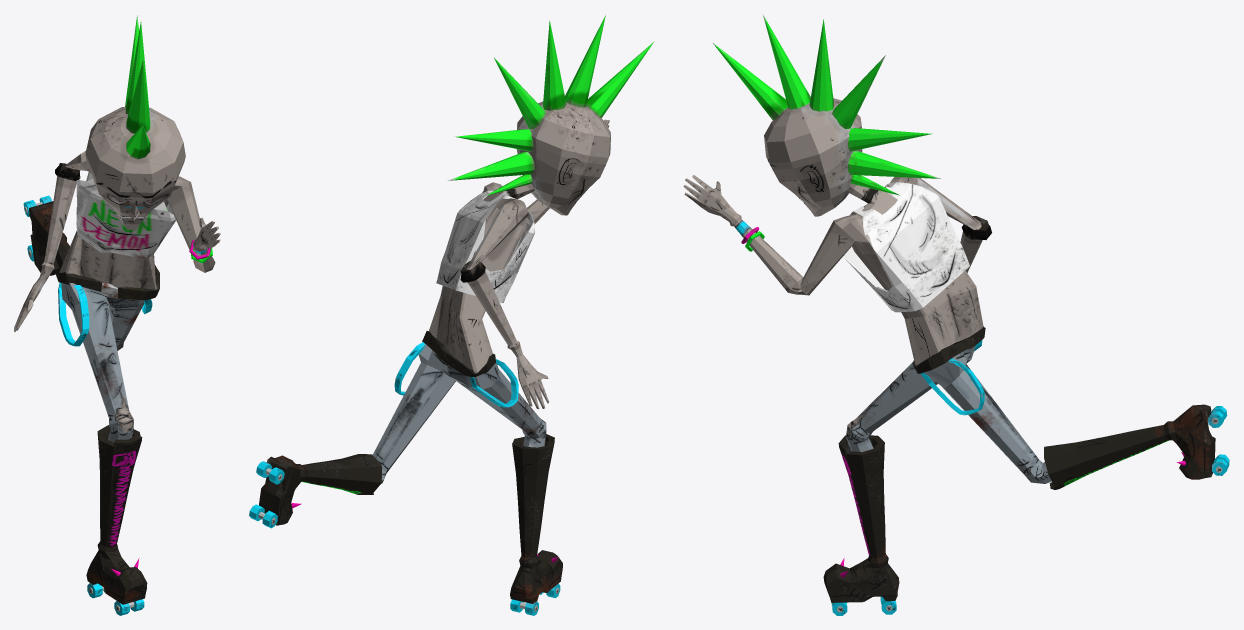
Rendered from punkAnimation_000032.obj.
The picture shows the model from 3 angles, left to right: view 1: azimuth 30°, elevation 25°; view 2: azimuth 150°, elevation 25°; view 3: azimuth 270°, elevation 25°; orthographic projection. The views are drawn at different scales.
Visible parts, largest first — view 1: Cube.004_Cube.003; view 2: Cube.004_Cube.003; view 3: Cube.004_Cube.003.
Part boxes in pixels (<box>): Cube.004_Cube.003: <box>14,15,220,615</box>; Cube.004_Cube.003: <box>249,15,654,615</box>; Cube.004_Cube.003: <box>683,15,1229,615</box>.
Bounding box in the file's own units: 2.05 × 6.67 × 5.56.
